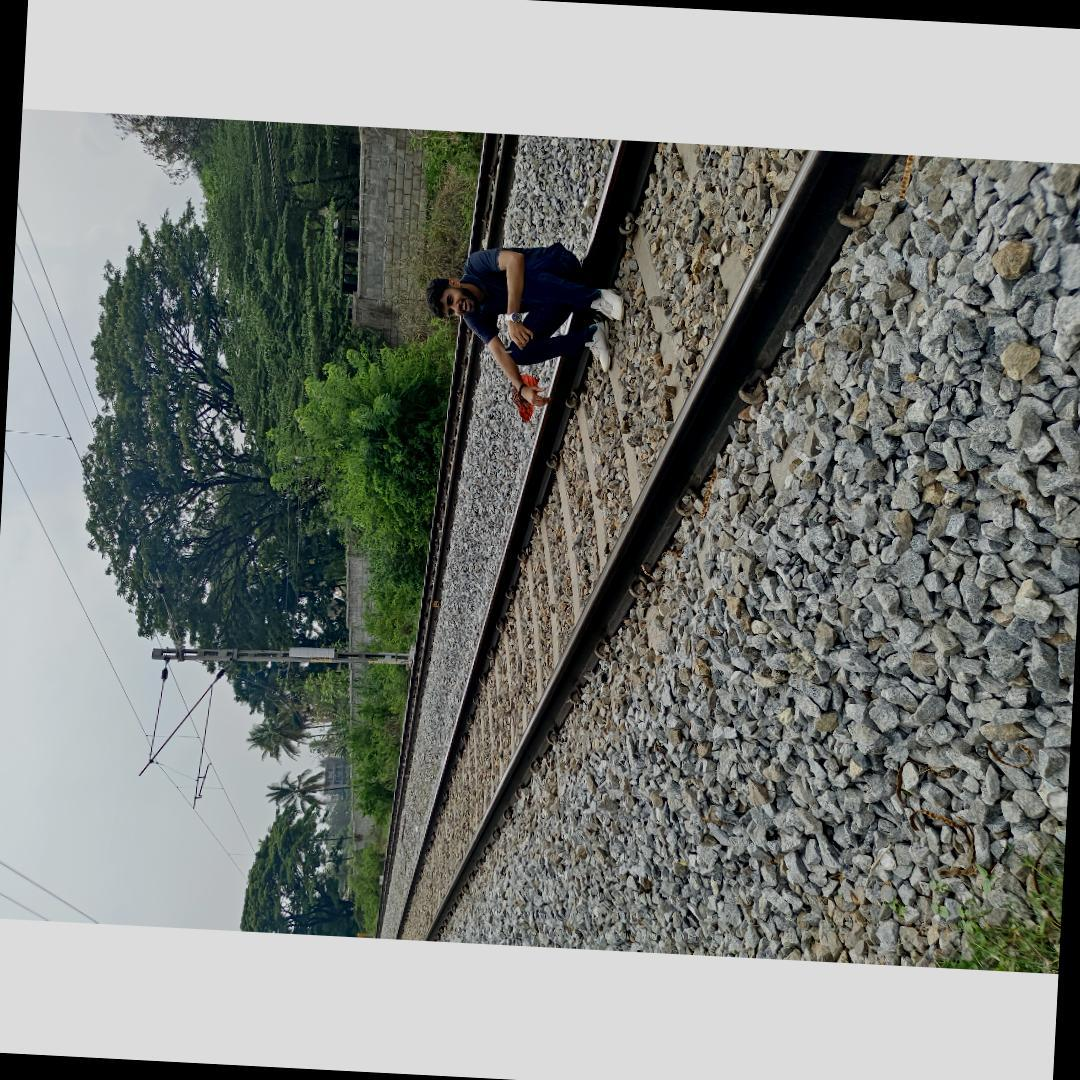sitting: (424, 214, 646, 402)
track: (372, 136, 974, 938)
